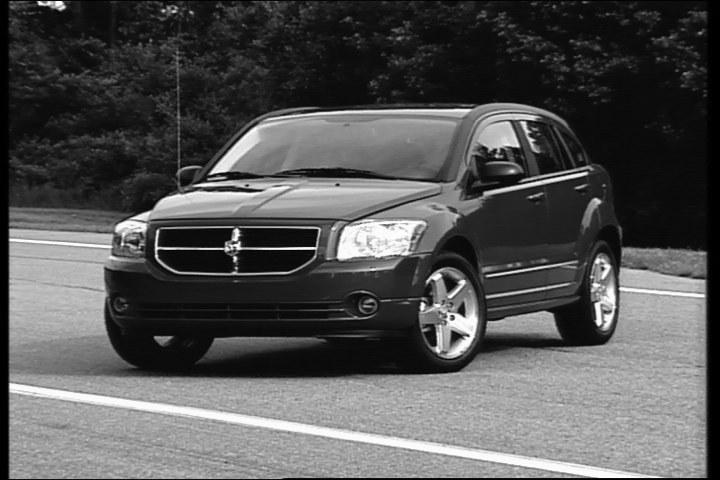car: (105, 102, 624, 372)
